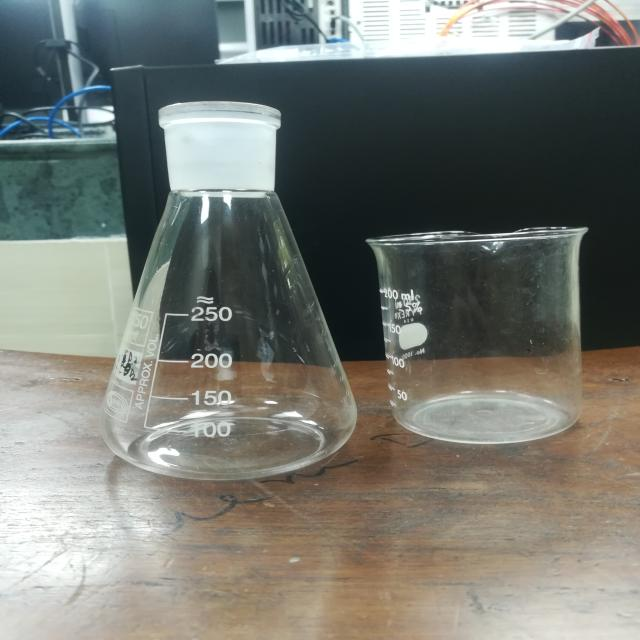Beaker: (379, 189, 605, 462)
Conical_Flask: (76, 71, 364, 492)
